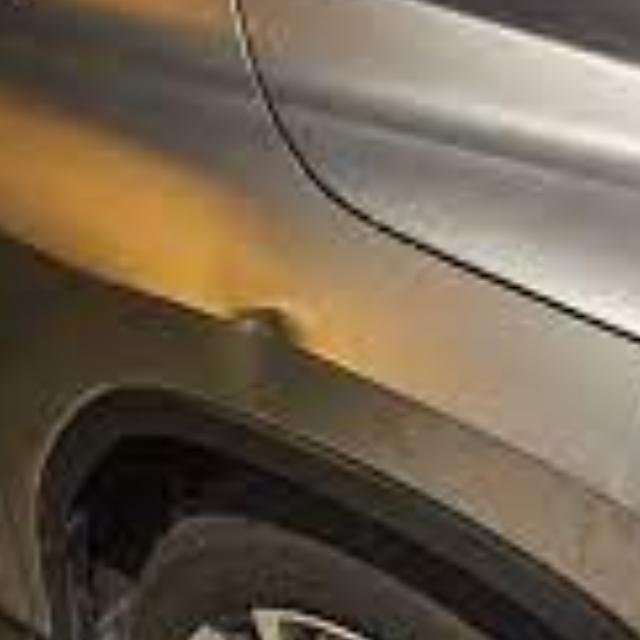dents: (204, 254, 319, 429)
